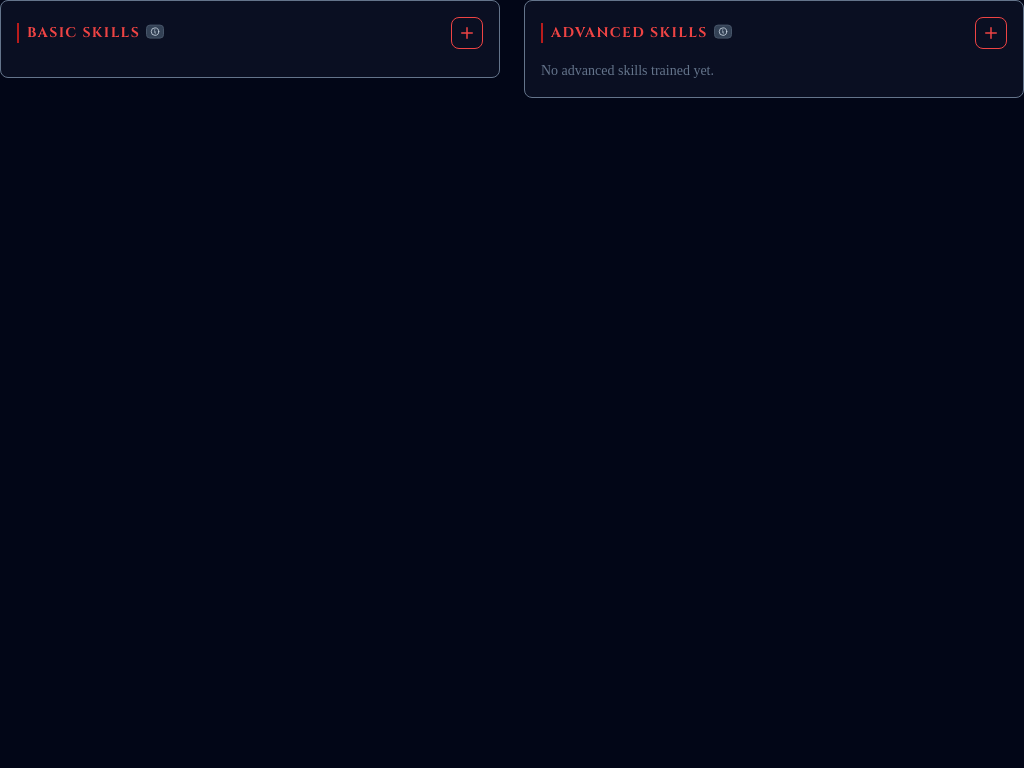
Scenario: Alternate Rank replacement › uses the selected Alternate Rank Skill table instead of the replaced normal table
Click the button named "Add Basic Skill" at (467, 33), box [451,17,483,49]
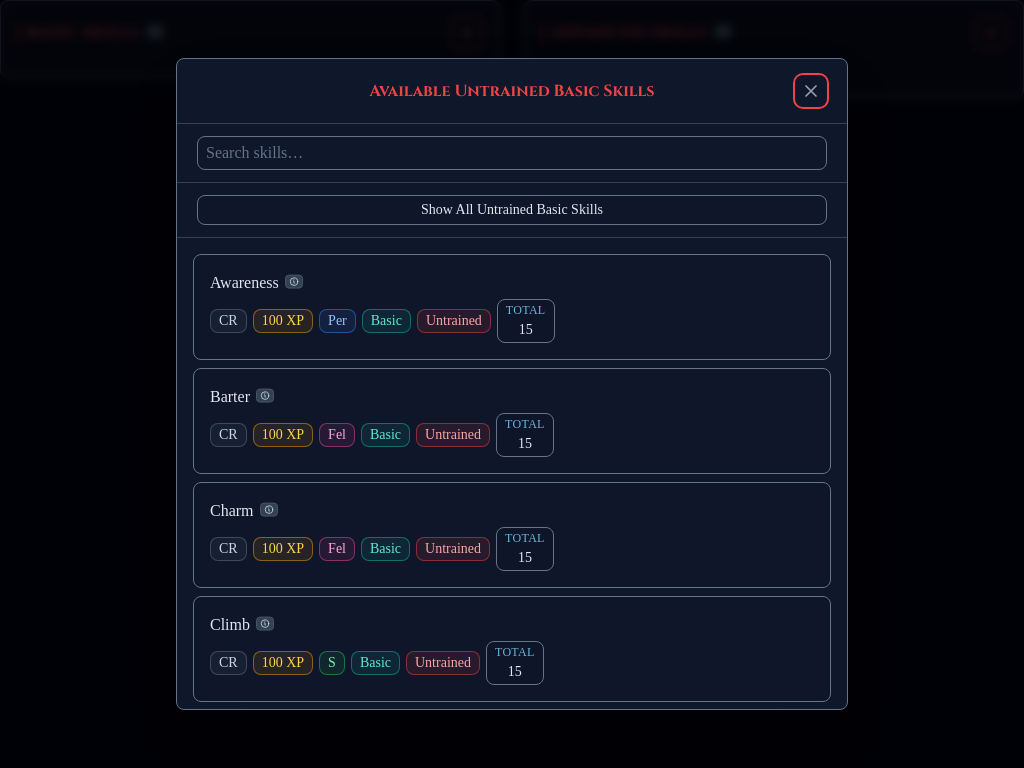
Click the button named "Close" at (811, 91), box [795,75,827,107]
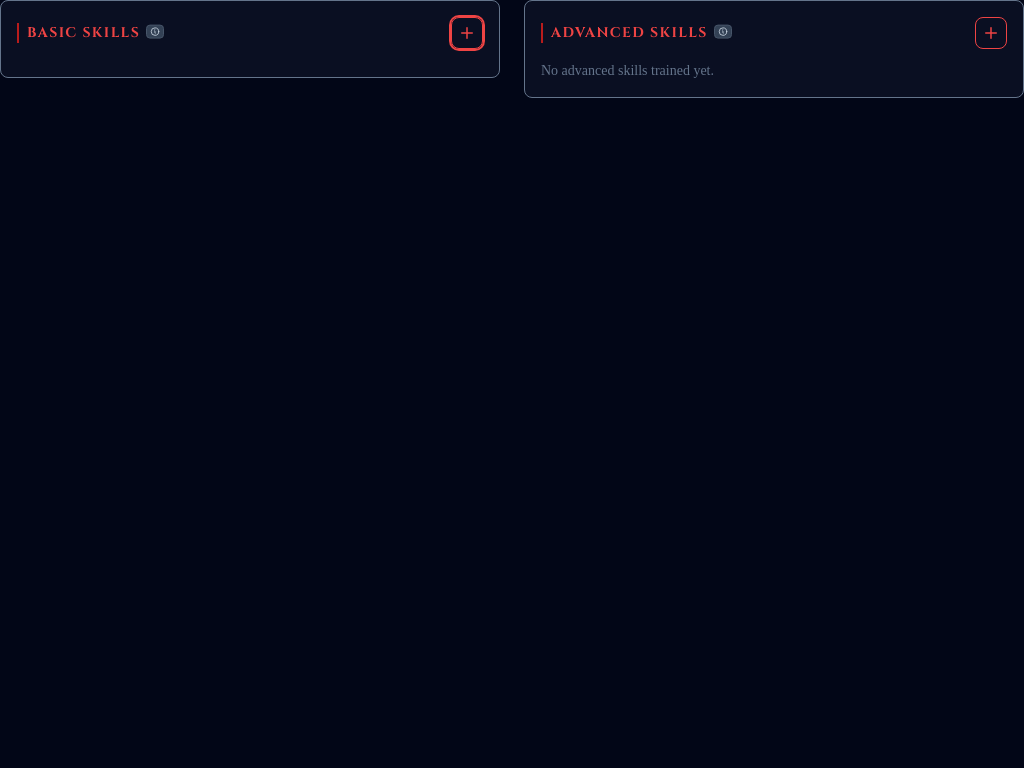
Click the button named "Add Advanced Skill" at (991, 33), box [975,17,1007,49]
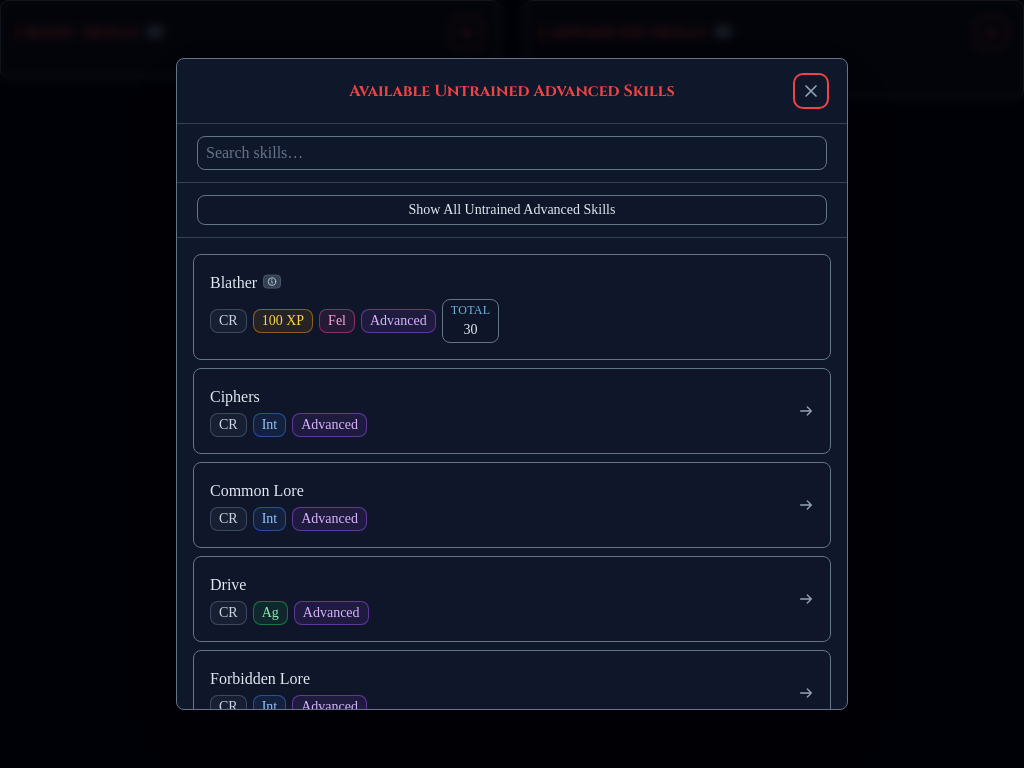
Click the text "Forbidden Lore" at (260, 679), box [210,667,310,691]
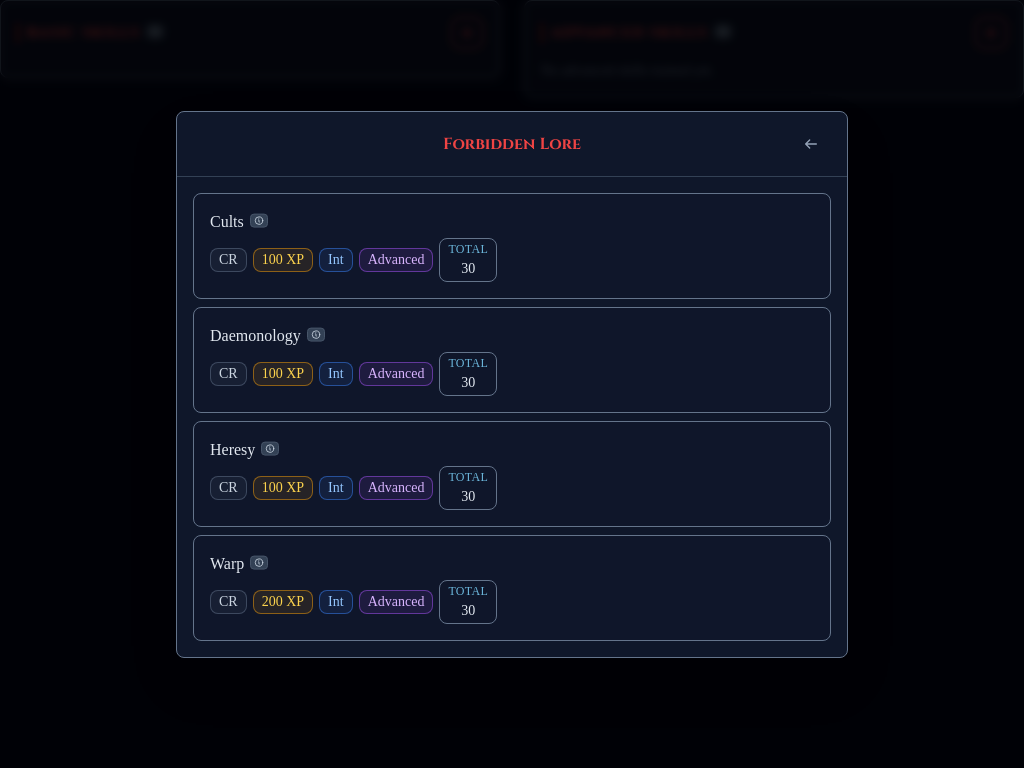
Expected: the button with aria-label "Select Forbidden Lore (Daemonology)" is shown, [193,306,831,412]
Expected: the text "100 XP" is shown once, [253,362,313,386]
